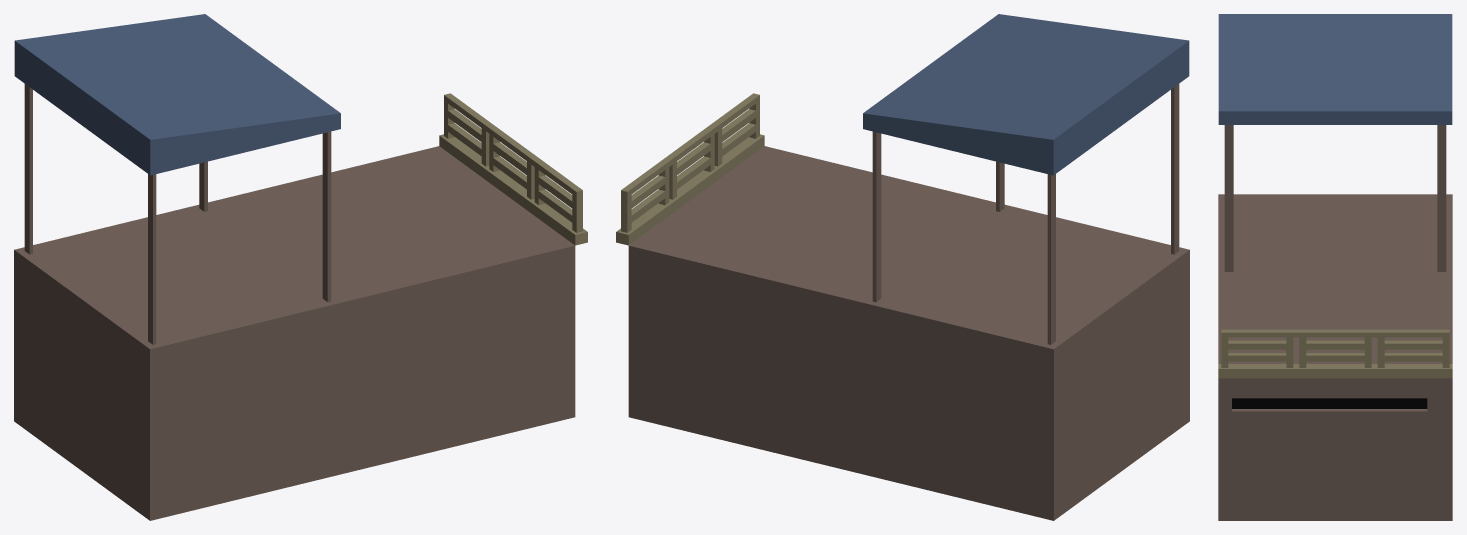
File: quan_cat_toc.fbx
3 views of the same model, side by side, from view 1: azimuth 30°, elevation 25°; view 2: azimuth 150°, elevation 25°; view 3: azimuth 270°, elevation 25° (orthographic). The views are drawn at different scales.
Visible parts, largest first — view 1: quan_cat_toc; view 2: quan_cat_toc; view 3: quan_cat_toc.
Boxes of the visible parts, x1=… form: quan_cat_toc: x1=14, y1=14, x2=587, y2=520; quan_cat_toc: x1=616, y1=14, x2=1189, y2=520; quan_cat_toc: x1=1218, y1=14, x2=1452, y2=520.
Bounding box in the file's own units: 1490 × 1239 × 802.
Materials: 1 (1 with a texture image).
